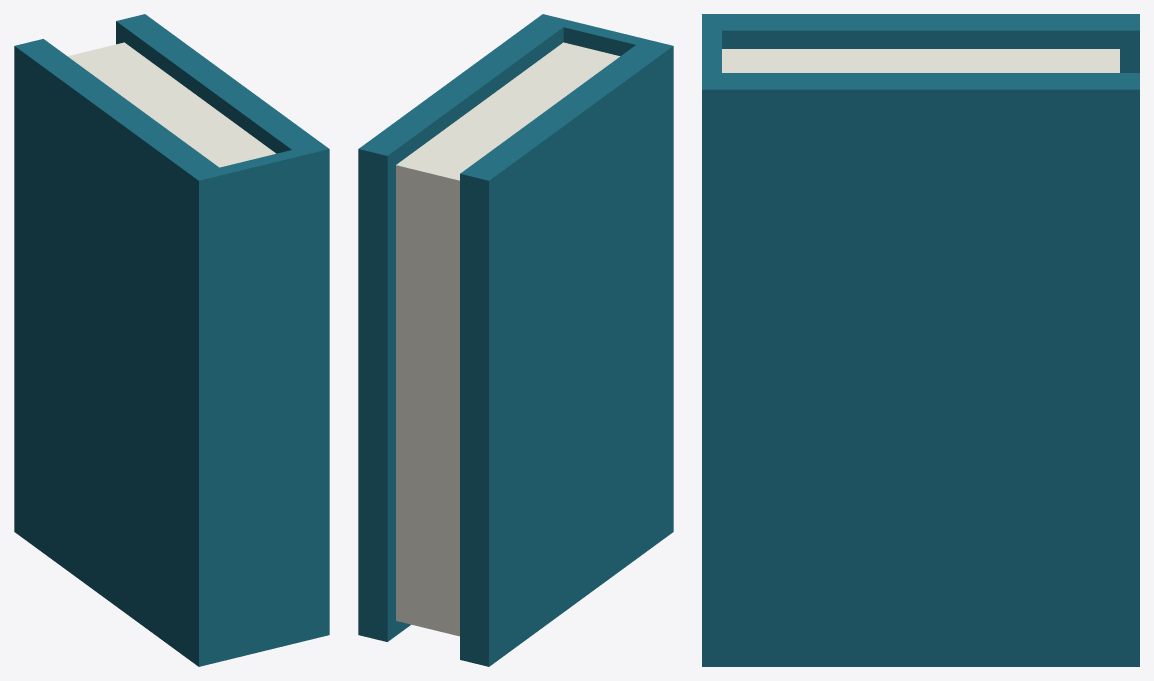
The model's file is Book_Blue_Dark.fbx.
The picture shows the model from 3 angles, left to right: view 1: azimuth 30°, elevation 25°; view 2: azimuth 150°, elevation 25°; view 3: azimuth 270°, elevation 25°; orthographic projection. The views are drawn at different scales.
Visible parts, largest first — view 1: pCube11; view 2: pCube11; view 3: pCube11.
Part boxes in pixels (x1=…): pCube11: x1=14, y1=14, x2=329, y2=666; pCube11: x1=358, y1=14, x2=673, y2=666; pCube11: x1=702, y1=14, x2=1139, y2=666.
Bounding box in the file's own units: 9 × 32 × 22.
